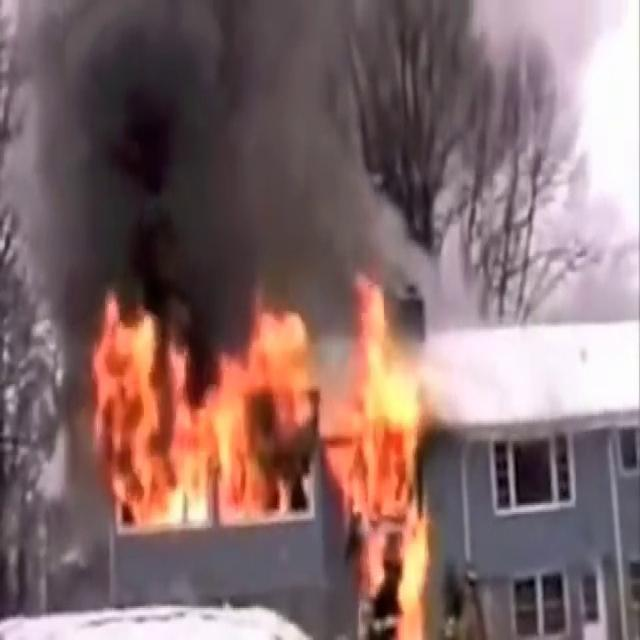Fire: (80, 274, 443, 624)
Smoke: (1, 0, 418, 338)
